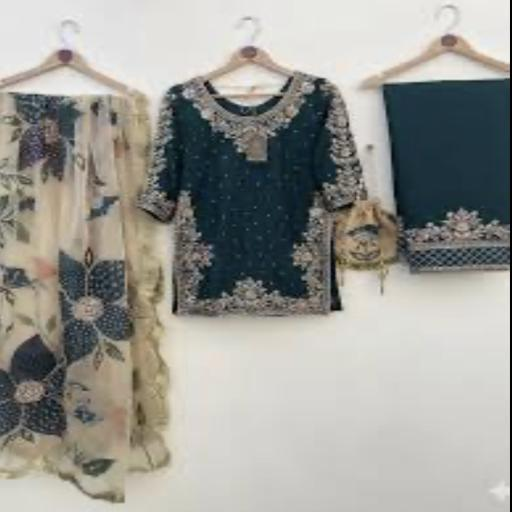dupatta: (0, 75, 180, 504)
kameez: (146, 79, 348, 317)
shalwar: (369, 67, 512, 274)
